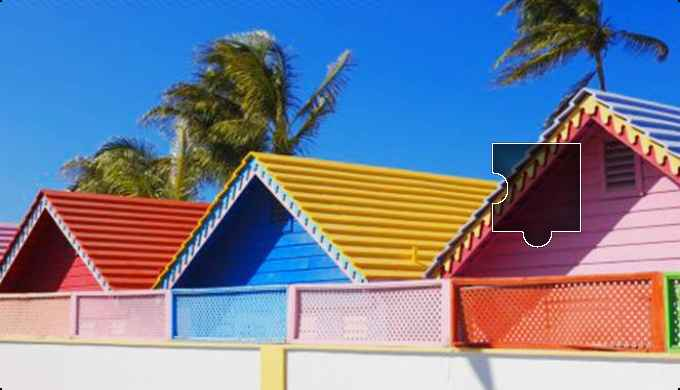gap: (490, 143, 581, 251)
